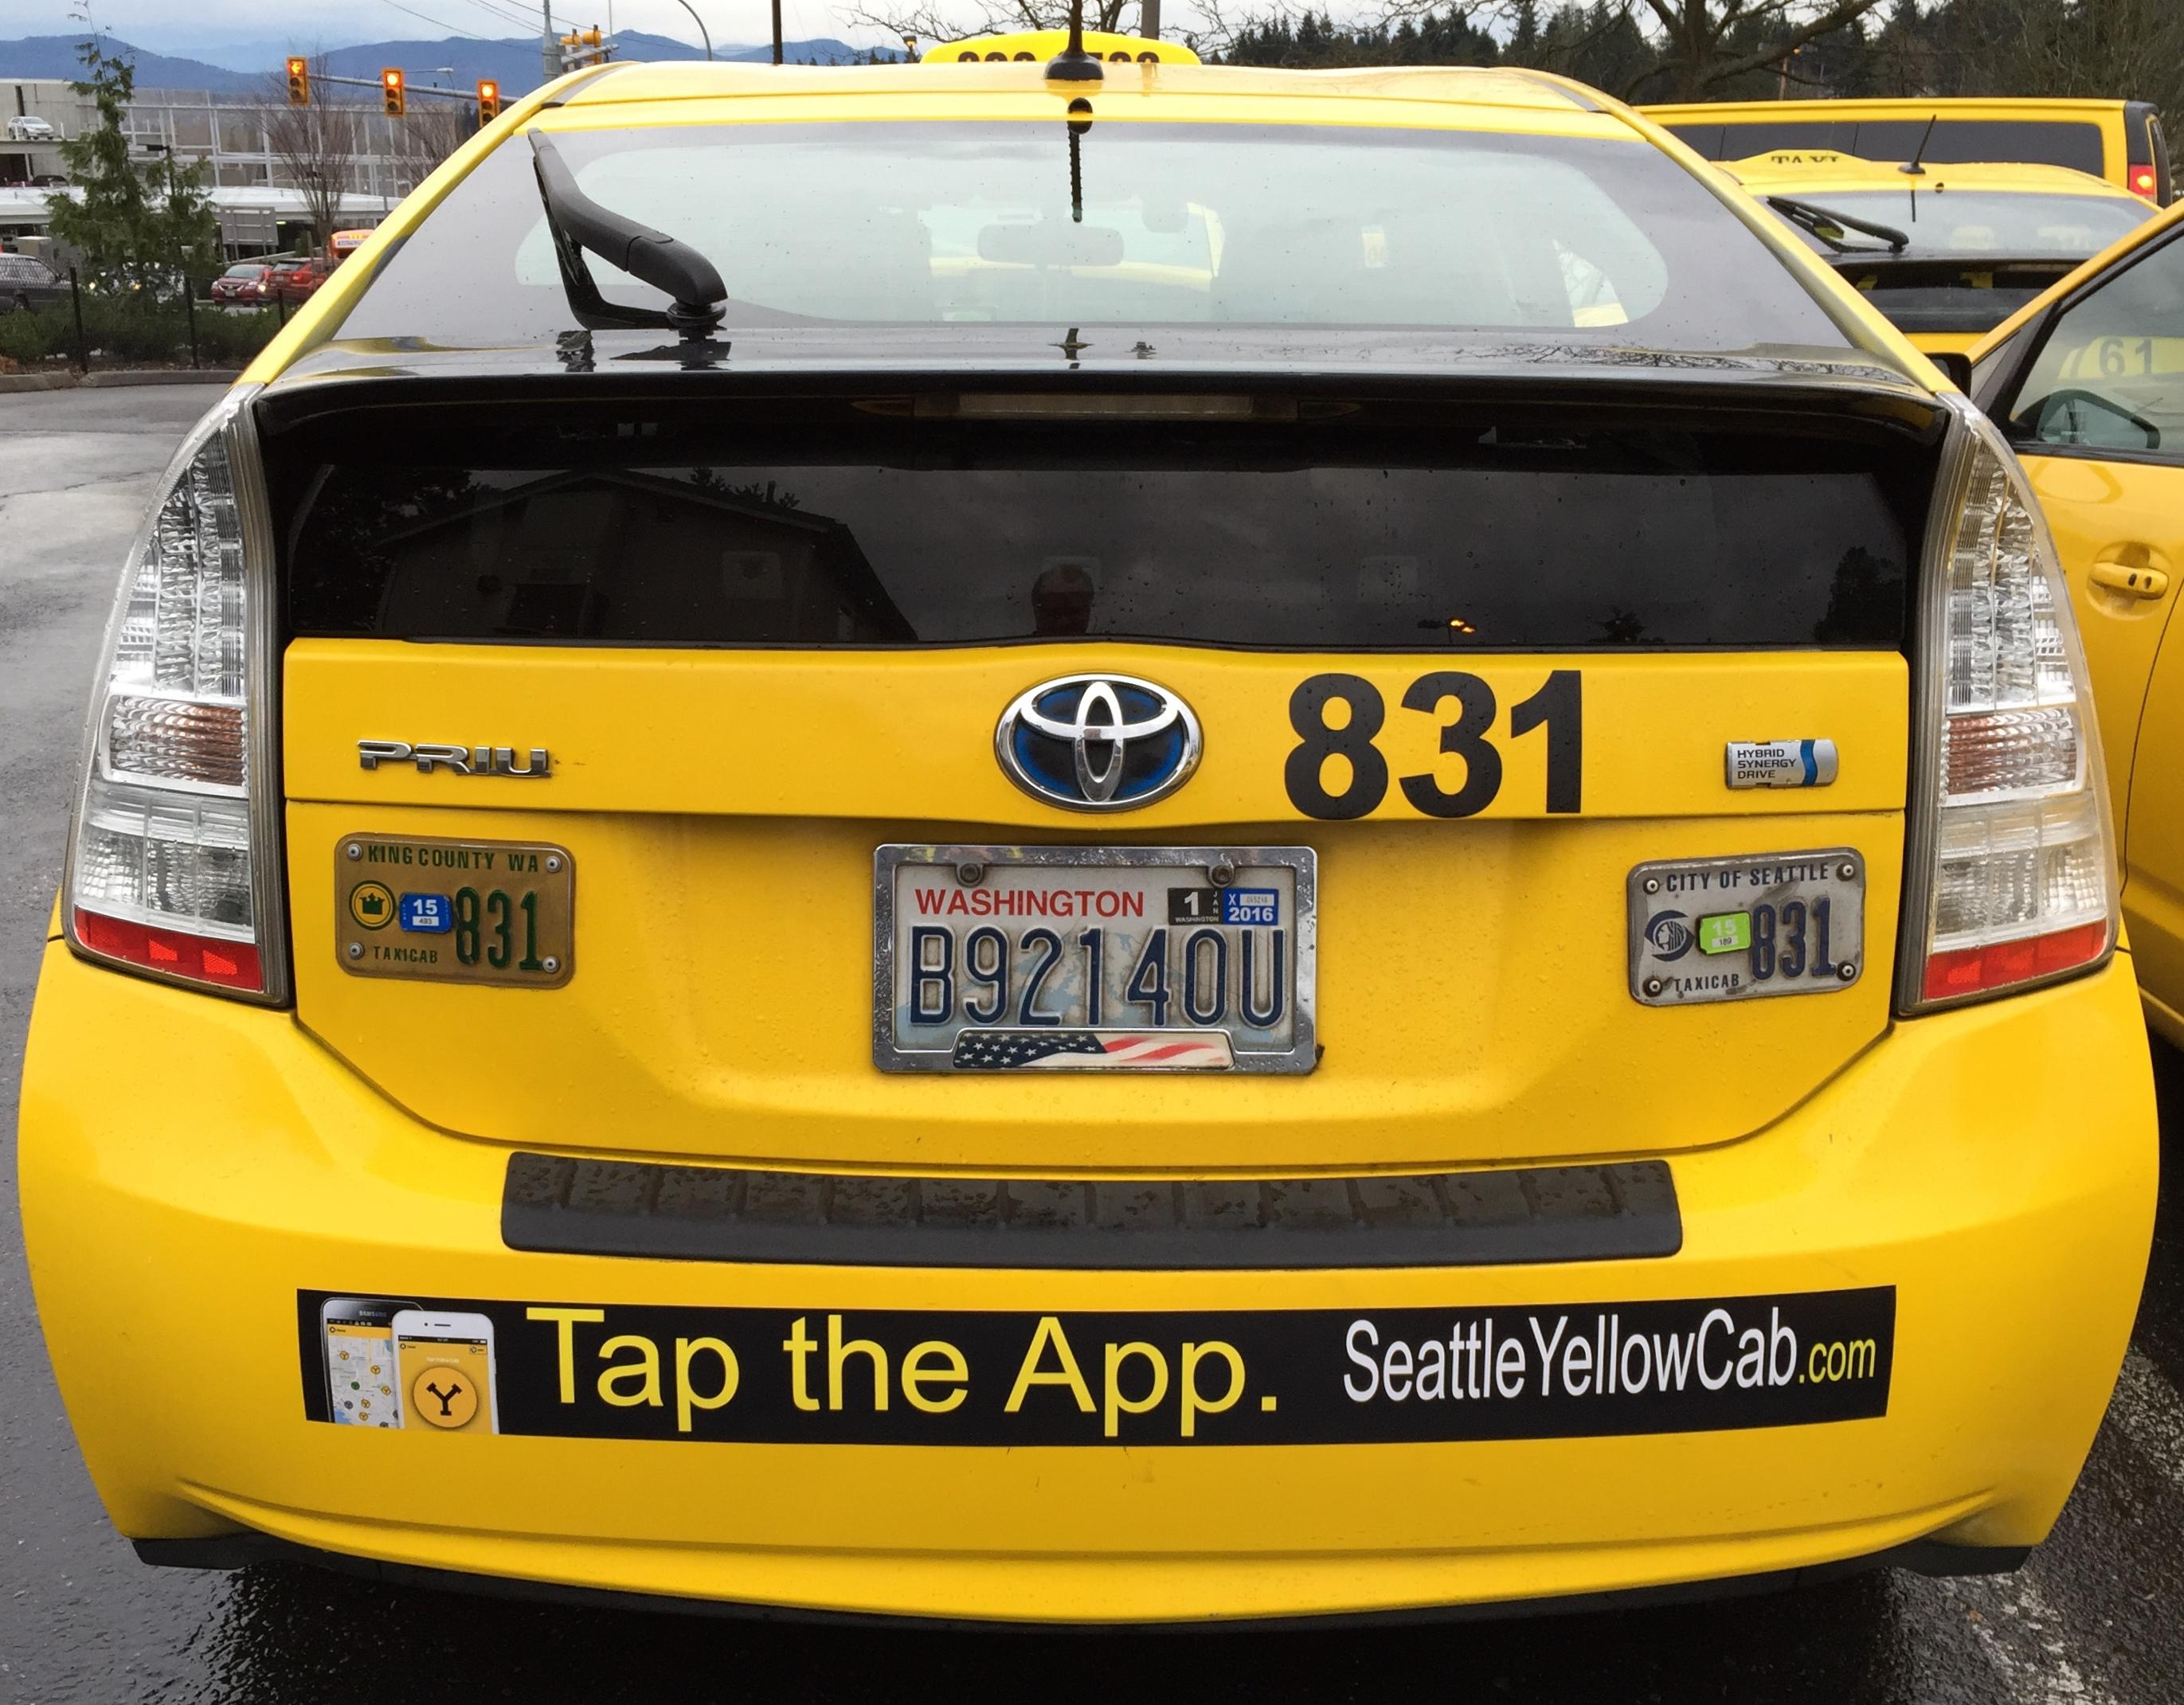taxi: (30, 4, 2184, 1705)
